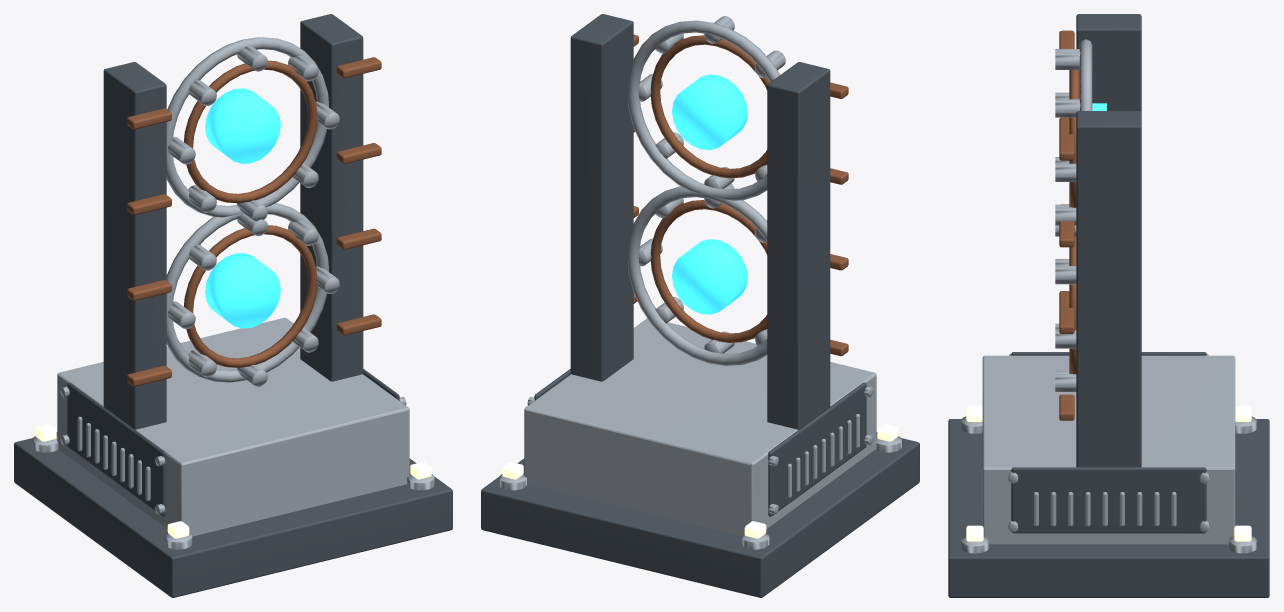
File: waf.glb
3 views of the same model, side by side, from view 1: azimuth 30°, elevation 25°; view 2: azimuth 150°, elevation 25°; view 3: azimuth 270°, elevation 25° (orthographic).
Parts seen in each view (by area): view 1: body_dark.168, body_steel.177, head_steel.036, head_blue.019, head_copper.018, body_copper.023, body_steel.178, body_warm.116; view 2: body_dark.168, body_steel.177, head_steel.036, head_blue.019, head_copper.018, body_steel.178, body_copper.023, body_warm.116; view 3: body_dark.168, body_steel.177, head_steel.036, body_copper.023, body_steel.178, head_copper.018, body_warm.116.
Boxes of the visible parts, x1,y1,x2,y2 form: body_dark.168: (14, 14, 452, 597); body_steel.177: (57, 317, 409, 536); head_steel.036: (166, 37, 339, 386); head_blue.019: (205, 88, 280, 328); head_copper.018: (184, 60, 317, 367); body_copper.023: (127, 57, 381, 386); body_steel.178: (32, 386, 434, 549); body_warm.116: (35, 424, 431, 538); body_dark.168: (481, 14, 919, 597); body_steel.177: (524, 318, 876, 536); head_steel.036: (627, 16, 785, 365); head_blue.019: (672, 74, 747, 314); head_copper.018: (650, 35, 770, 342); body_steel.178: (499, 386, 901, 549); body_copper.023: (633, 34, 848, 356); body_warm.116: (502, 424, 898, 538); body_dark.168: (948, 14, 1269, 597); body_steel.177: (982, 355, 1235, 544); head_steel.036: (1055, 39, 1092, 391); body_copper.023: (1059, 30, 1074, 420); body_steel.178: (961, 353, 1256, 553); head_copper.018: (1069, 70, 1079, 374); body_warm.116: (966, 406, 1251, 541).
Size of the model in its own units: 0.86 by 1.39 by 0.84.
